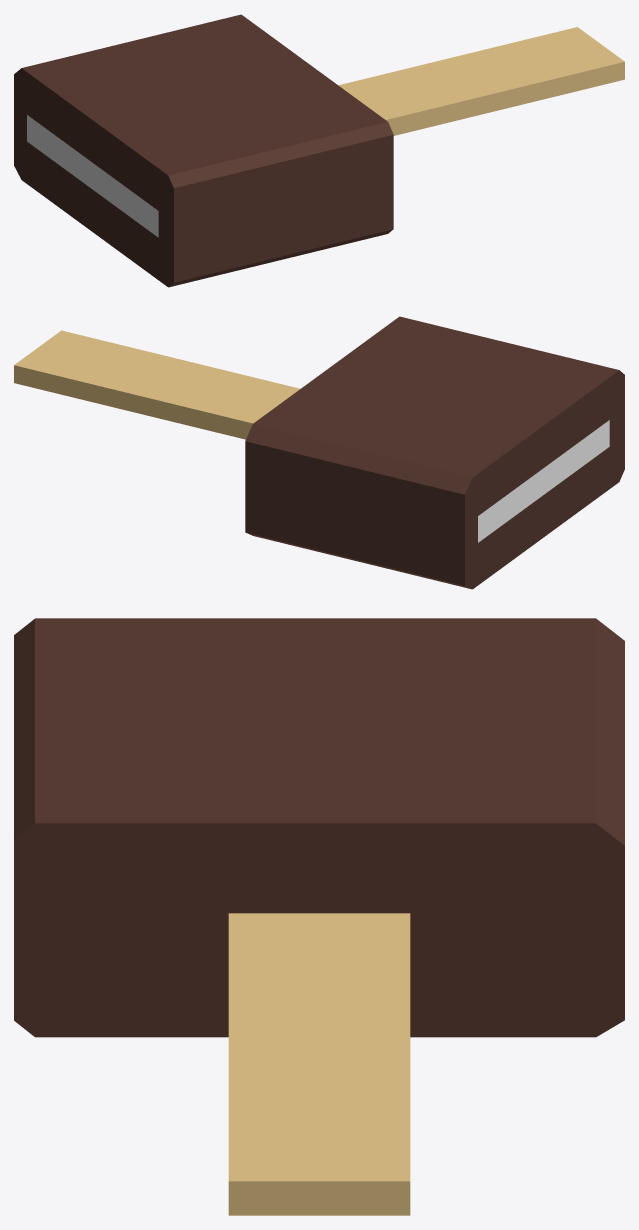
Rendered from iceCream2.fbx.
The picture shows the model from 3 angles, top to bottom: view 1: azimuth 30°, elevation 25°; view 2: azimuth 150°, elevation 25°; view 3: azimuth 270°, elevation 25°; orthographic projection. The views are drawn at different scales.
Visible parts, largest first — view 1: Cube.001; view 2: Cube.001; view 3: Cube.001.
Boxes of the visible parts, bbox=[...] form: Cube.001: bbox=[14, 14, 624, 287]; Cube.001: bbox=[14, 316, 624, 589]; Cube.001: bbox=[14, 618, 624, 1215].
Bounding box in the file's own units: 366 × 77.28 × 200.
